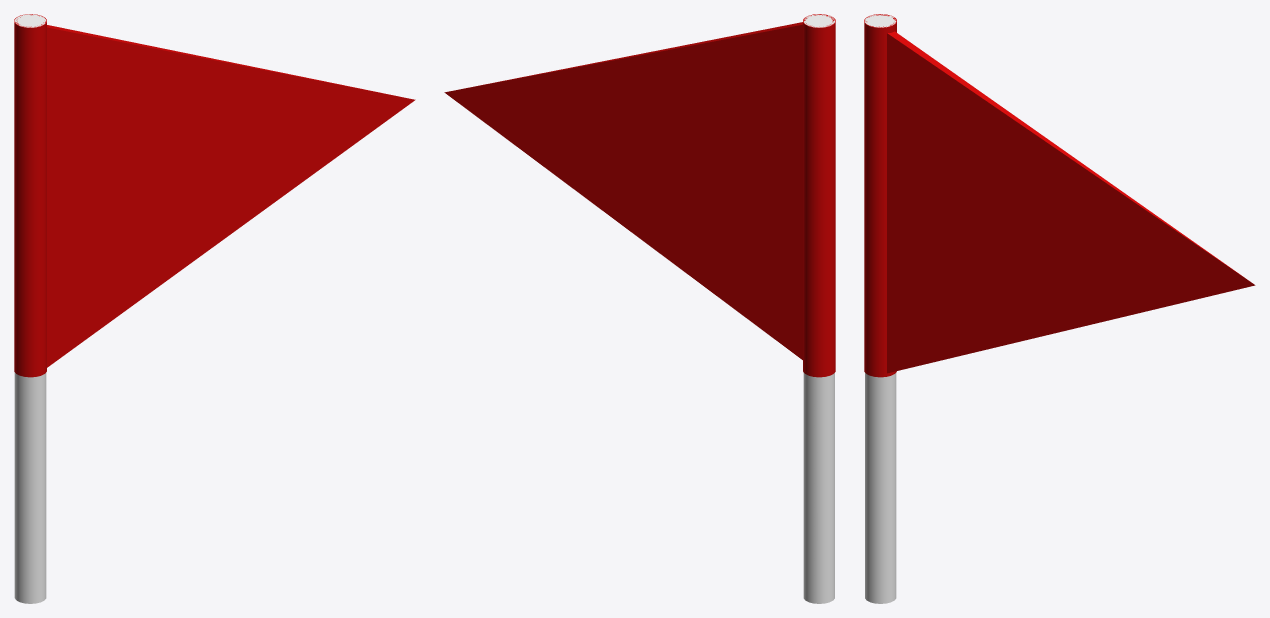
File: flag.gltf
The picture shows the model from 3 angles, left to right: view 1: azimuth 30°, elevation 25°; view 2: azimuth 150°, elevation 25°; view 3: azimuth 330°, elevation 25°; orthographic projection.
Bounding box in the file's own units: 0.1424 × 0.1988 × 0.0102.
